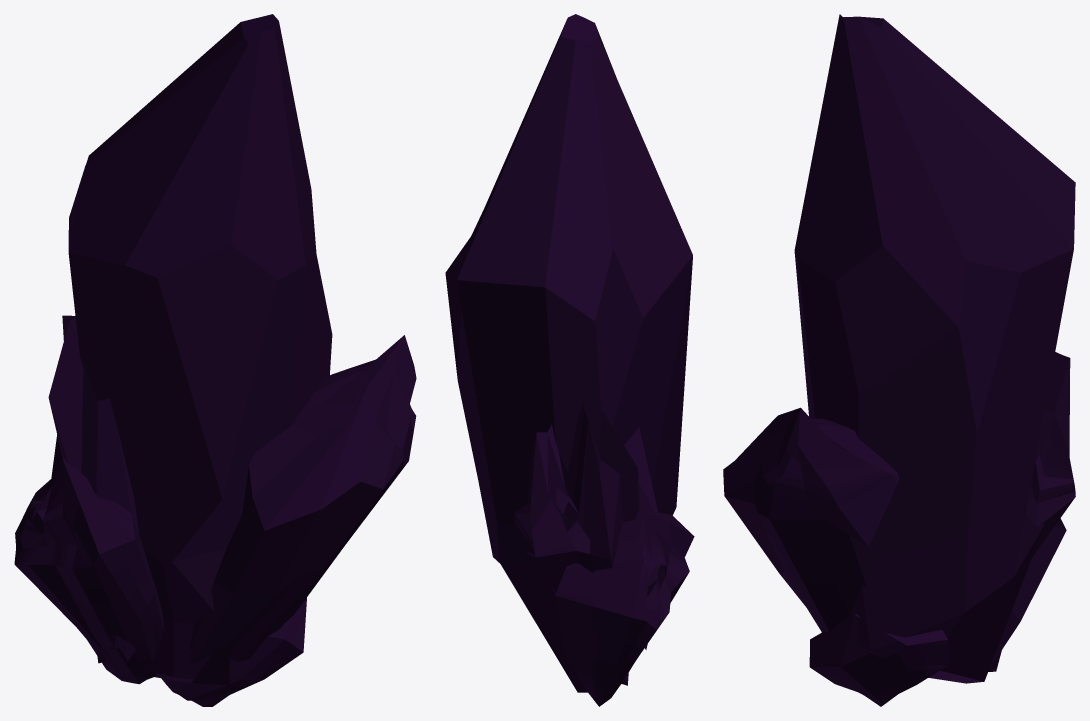
File: Aversion.glb
3 views of the same model, side by side, from view 1: azimuth 30°, elevation 25°; view 2: azimuth 150°, elevation 25°; view 3: azimuth 270°, elevation 25° (orthographic). The views are drawn at different scales.
Parts seen in each view (by area): view 1: Circle.004, Circle.001, Circle.002, Circle.005, Circle.003; view 2: Circle.004, Circle.005, Circle.002; view 3: Circle.004, Circle.001, Circle.003, Circle.005, Circle.002.
Part boxes in pixels (x1,y1,x2,y2): Circle.004: (68,14,332,685); Circle.001: (189,335,416,664); Circle.002: (14,458,164,684); Circle.005: (48,315,138,663); Circle.003: (158,598,306,706); Circle.004: (445,14,692,692); Circle.005: (514,402,657,685); Circle.002: (555,510,694,706); Circle.004: (794,14,1075,683); Circle.001: (723,407,901,632); Circle.003: (809,613,949,706); Circle.005: (1025,352,1075,557); Circle.002: (988,518,1066,671).
Bounding box in the file's own units: 1.15 × 2.61 × 1.17.
